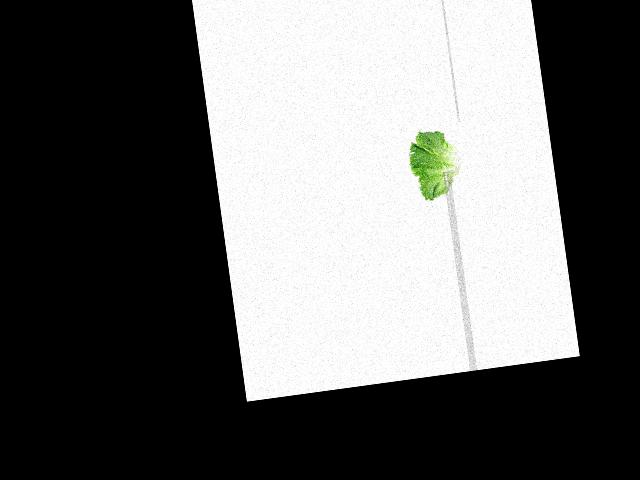lettuce: (406, 126, 465, 199)
